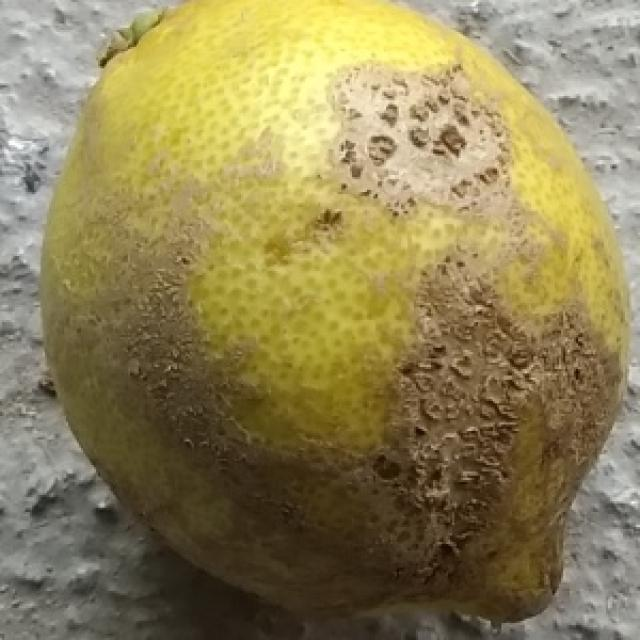overripe: (37, 3, 631, 630)
